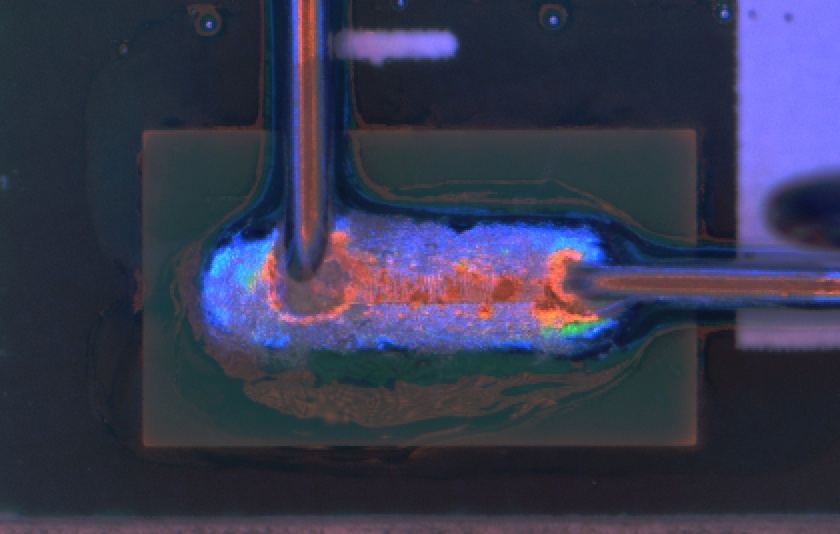spring: (560, 235, 838, 313), (277, 1, 331, 295)
spring_pin: (197, 206, 635, 364)
